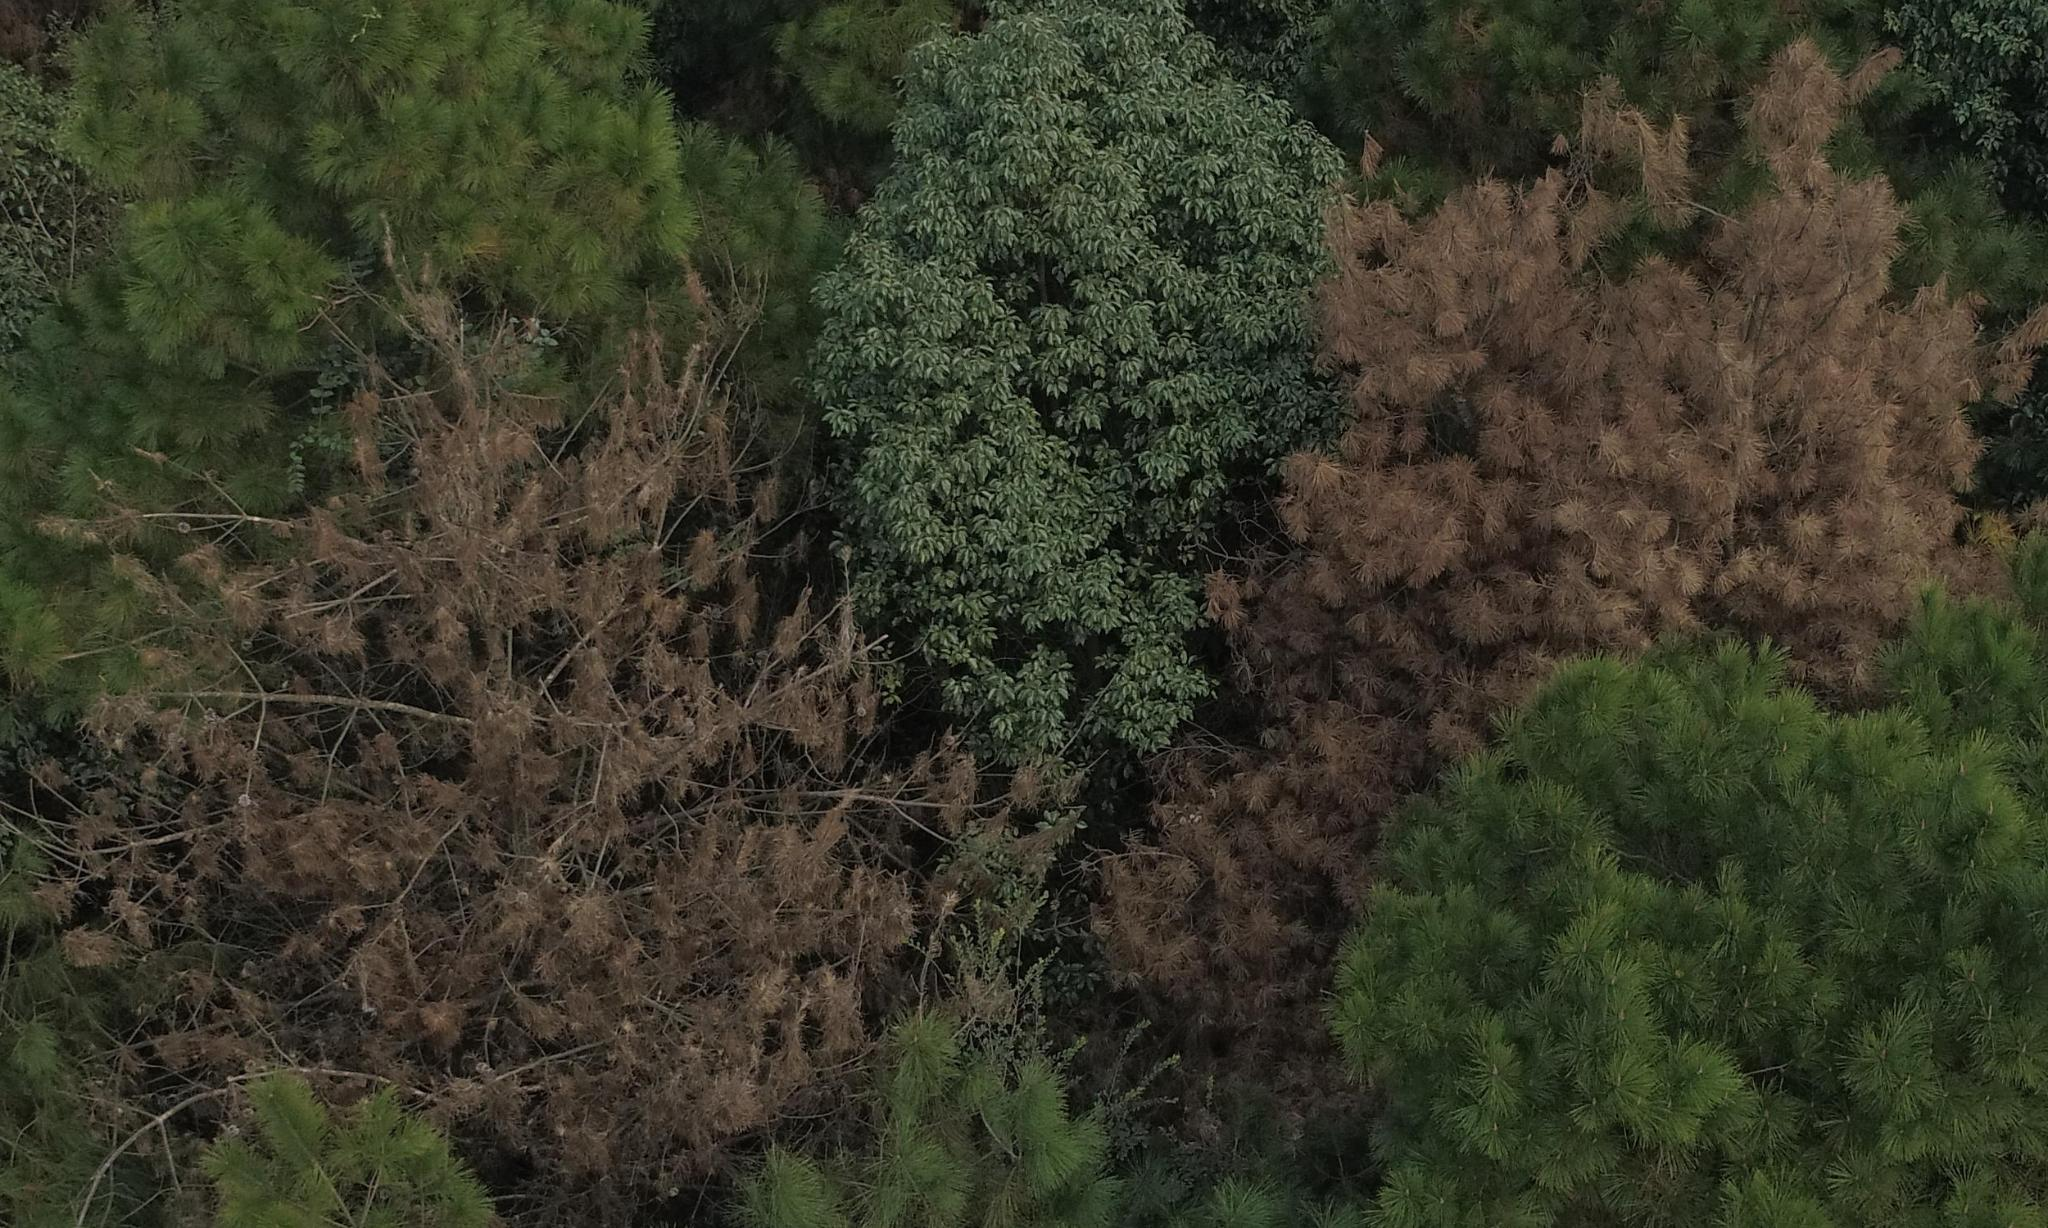heavy: (1110, 72, 1987, 1023), (38, 354, 928, 1181)
